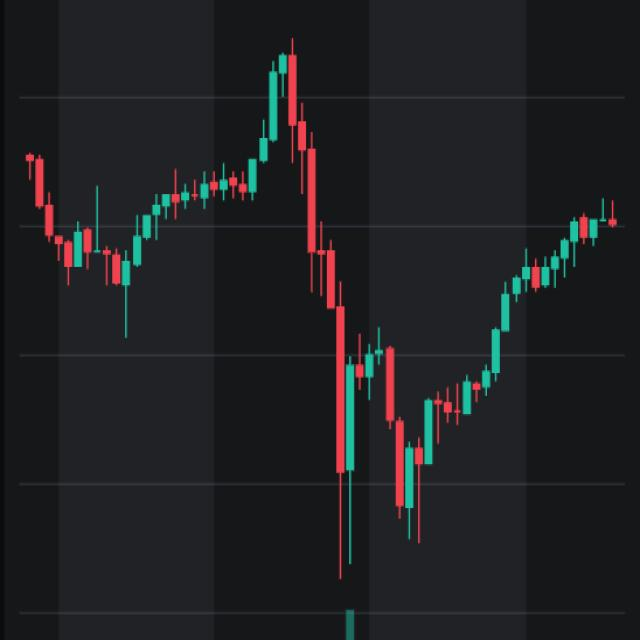Triangle: (312, 252, 526, 616)
